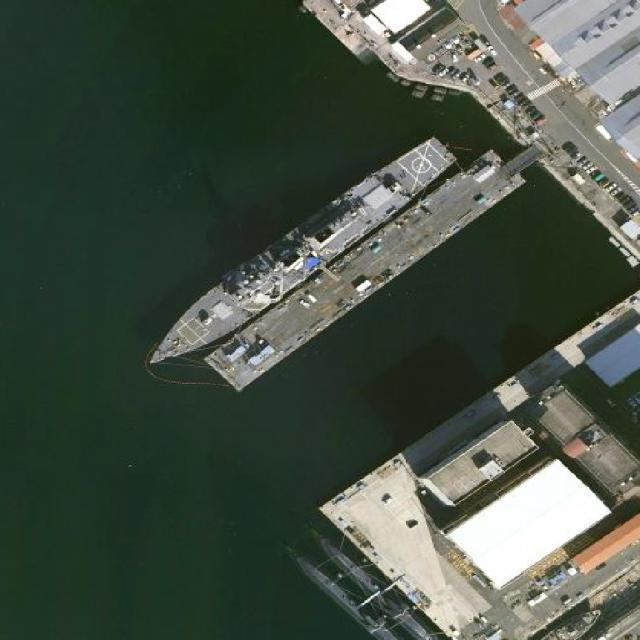Destroyer: (133, 124, 467, 380)
